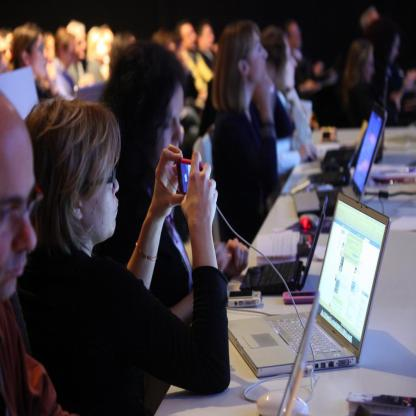board: (249, 181, 384, 405), (291, 101, 387, 219), (238, 195, 326, 292)
